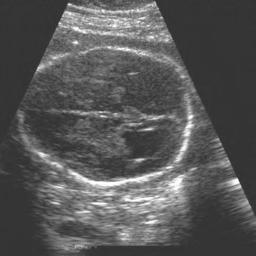abnormal: (19, 43, 192, 187)
